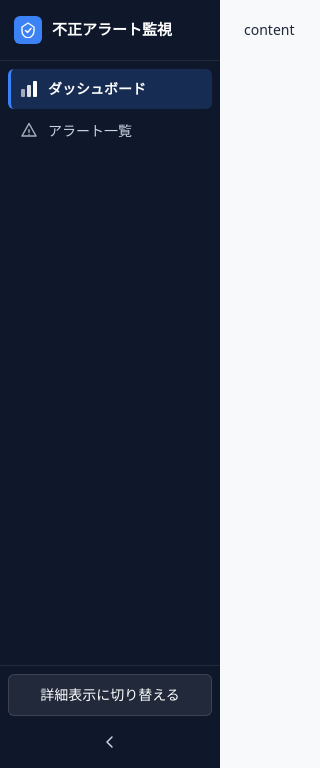
Test case: AppFrame › shows advanced-only navigation after the display mode is switched
This screenshot has width=320, height=768.
Expected: the link "検知の仕組み" is not shown
Expected: the link "検知設定" is not shown
Click the button "詳細表示に切り替える". click: (110, 695)
box: [8,674,212,716]
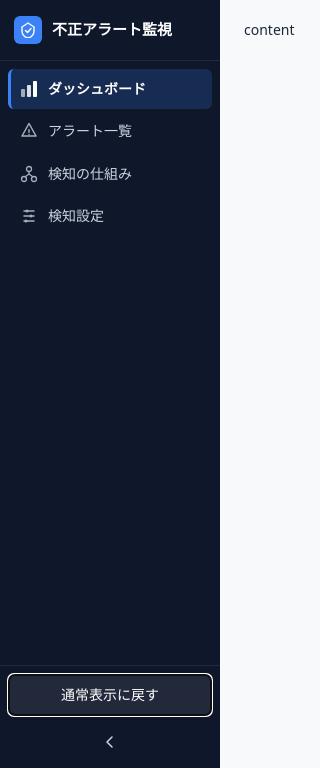
Now the link "検知の仕組み" is shown, box [20,164,132,183]
Now the link "検知設定" is shown, box [20,206,104,225]
